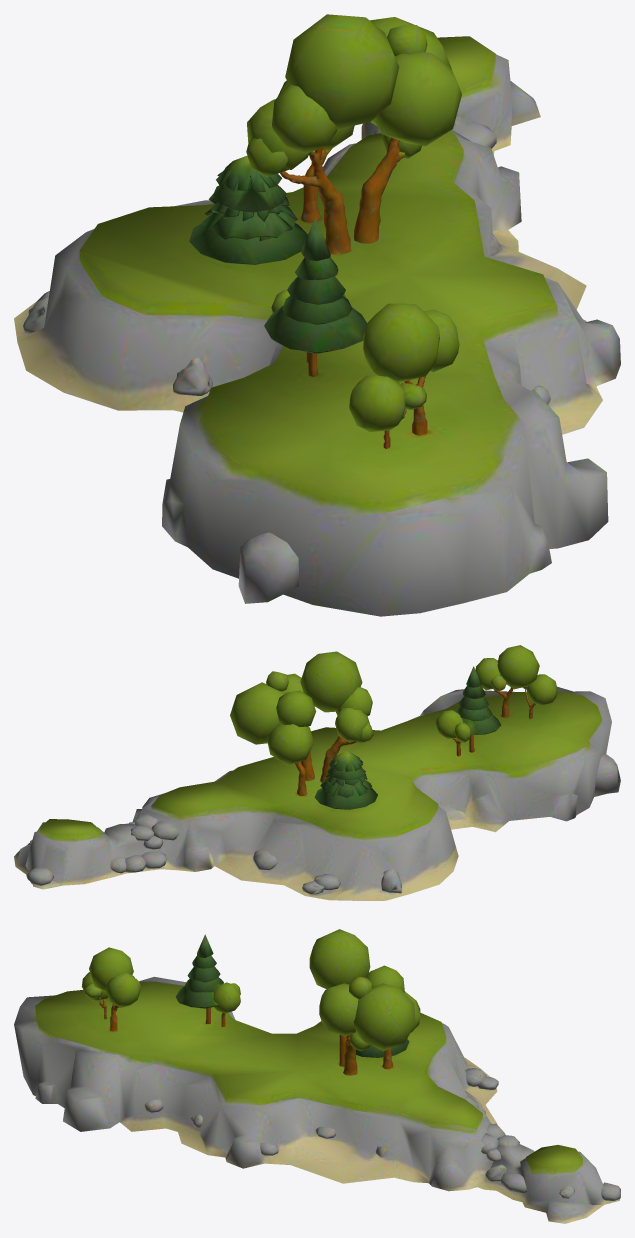
The model's file is isle_14.glb.
3 views of the same model, one above another, from view 1: azimuth 30°, elevation 25°; view 2: azimuth 150°, elevation 25°; view 3: azimuth 270°, elevation 25° (orthographic). The views are drawn at different scales.
Visible parts, largest first — view 1: tripo_node_332f7d4a-f276-4788-9e9a-ab2009891d3e; view 2: tripo_node_332f7d4a-f276-4788-9e9a-ab2009891d3e; view 3: tripo_node_332f7d4a-f276-4788-9e9a-ab2009891d3e.
Part boxes in pixels (box(x1,y1,x2,y2)): tripo_node_332f7d4a-f276-4788-9e9a-ab2009891d3e: box(14, 14, 620, 616); tripo_node_332f7d4a-f276-4788-9e9a-ab2009891d3e: box(14, 645, 620, 900); tripo_node_332f7d4a-f276-4788-9e9a-ab2009891d3e: box(14, 929, 620, 1223).
Bounding box in the file's own units: 25.22 × 11.66 × 33.3.
1 material, 1 textured.
